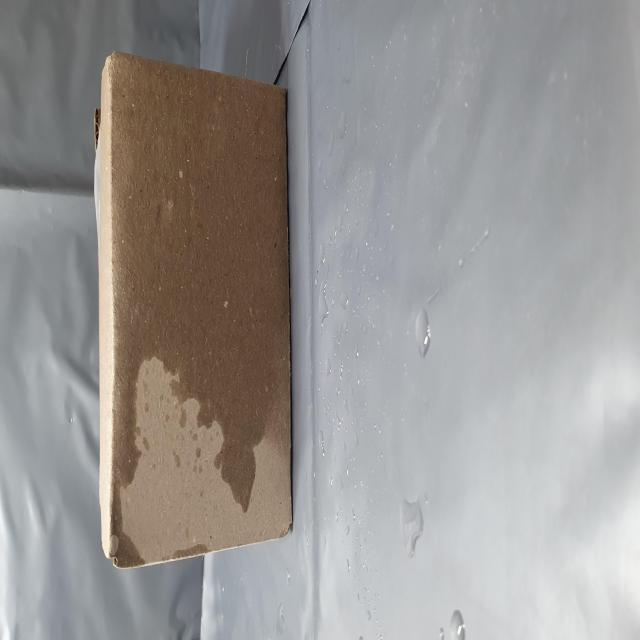wet: (53, 175, 318, 521)
